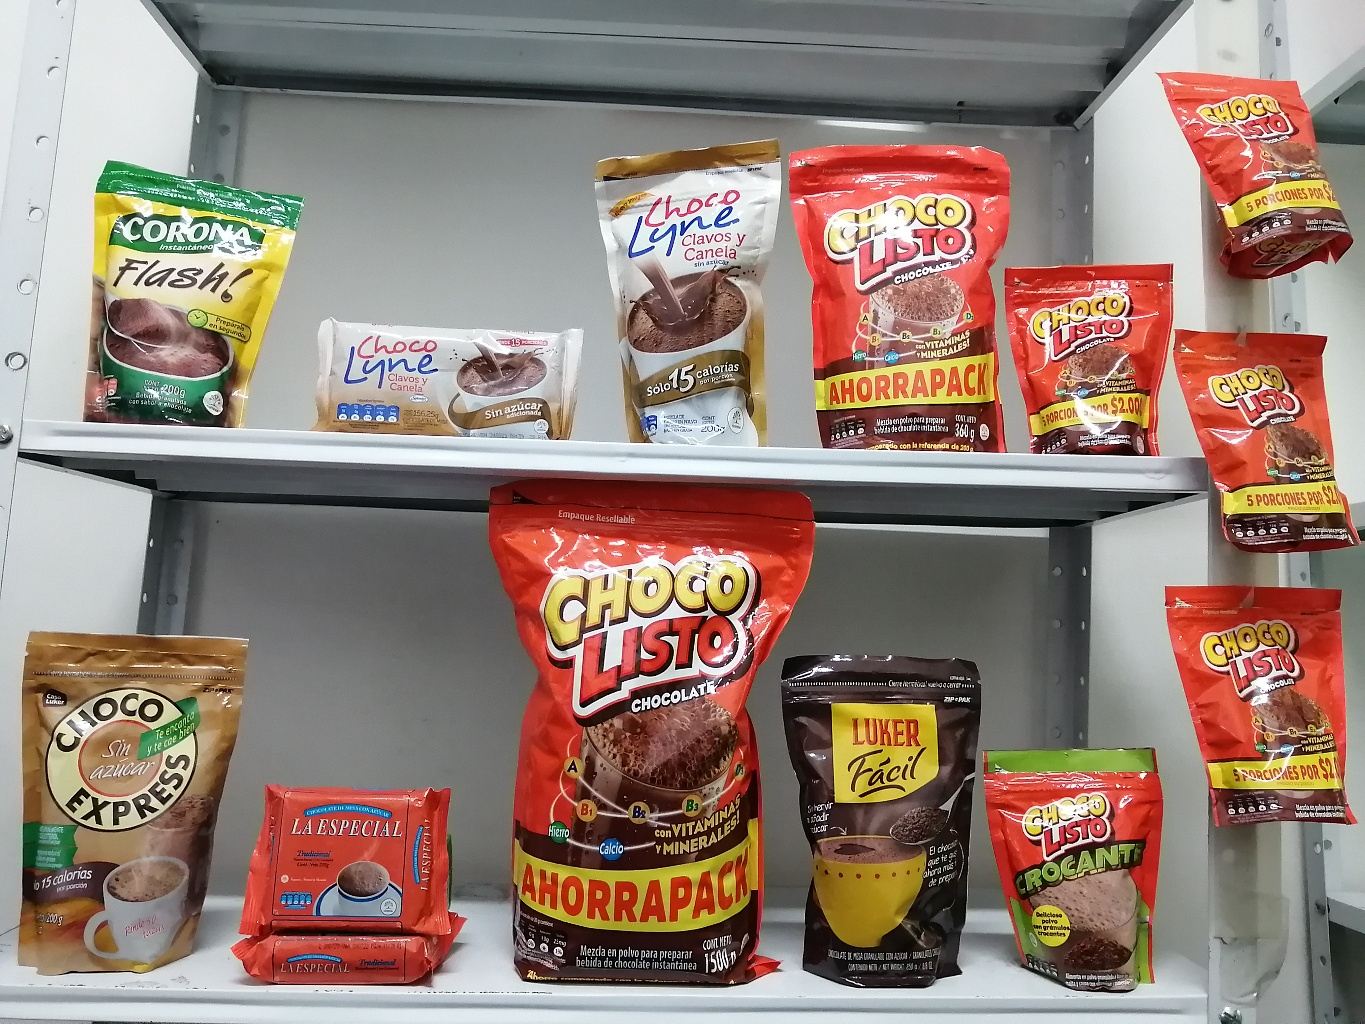COL0170102DYP10000: (981, 726, 1170, 996)
COL0170103DYP1,500: (475, 471, 791, 986)
COL0170103DYP10000: (1172, 580, 1352, 833)
COL0170103DYP36000: (787, 145, 1039, 475)
